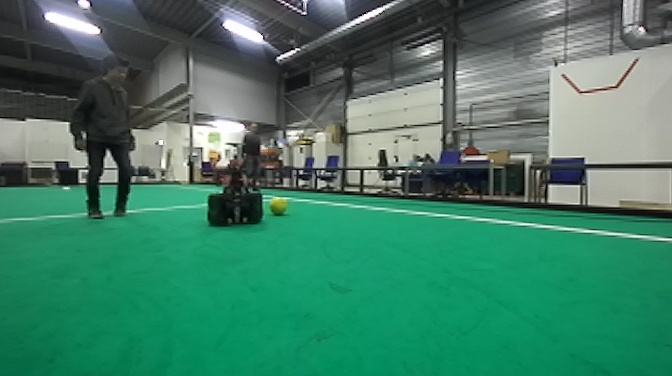ball: (266, 195, 293, 218)
human: (63, 53, 146, 225), (238, 120, 266, 193)
robot: (203, 134, 264, 230)
